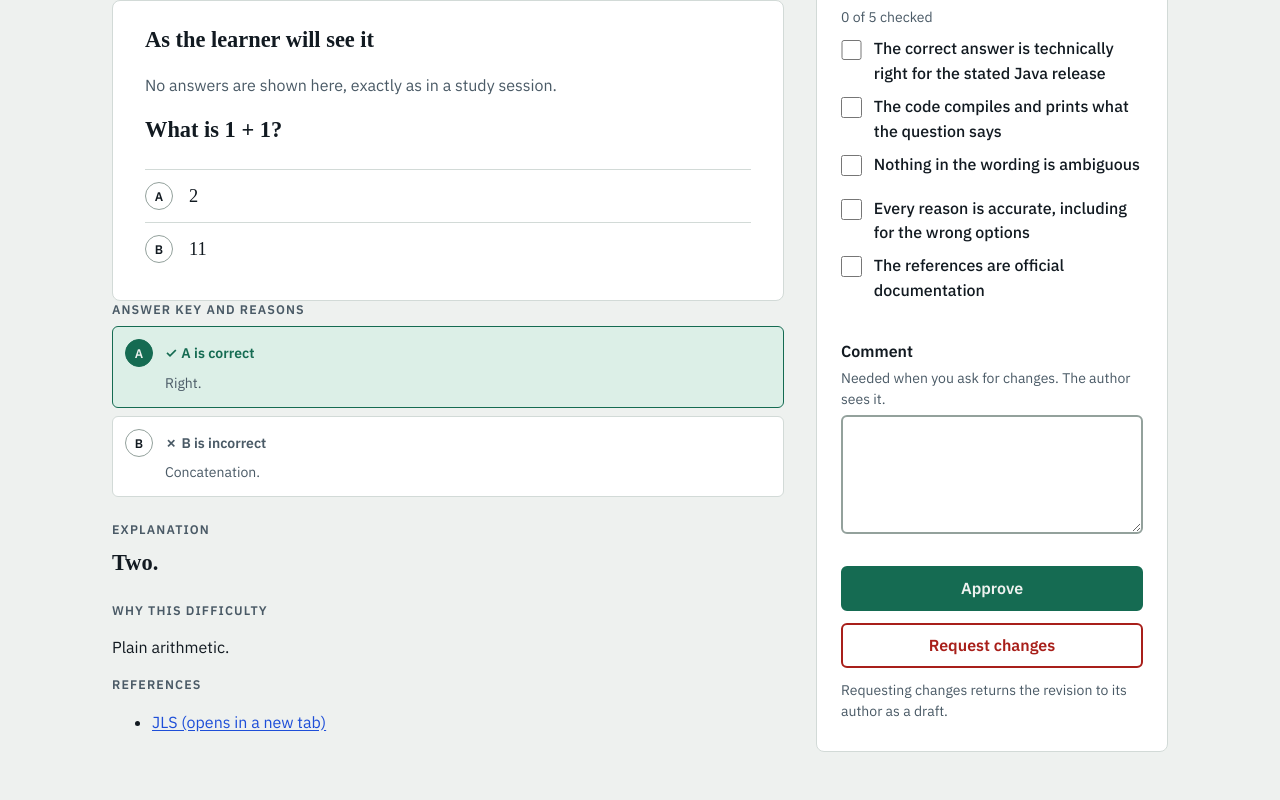
Test case: reviewing › approves without a comment
The width and height of the screenshot is (1280, 800).
(page scrolled)
Click the button "Approve" at (992,588), box [841,566,1143,611]
(page scrolled)
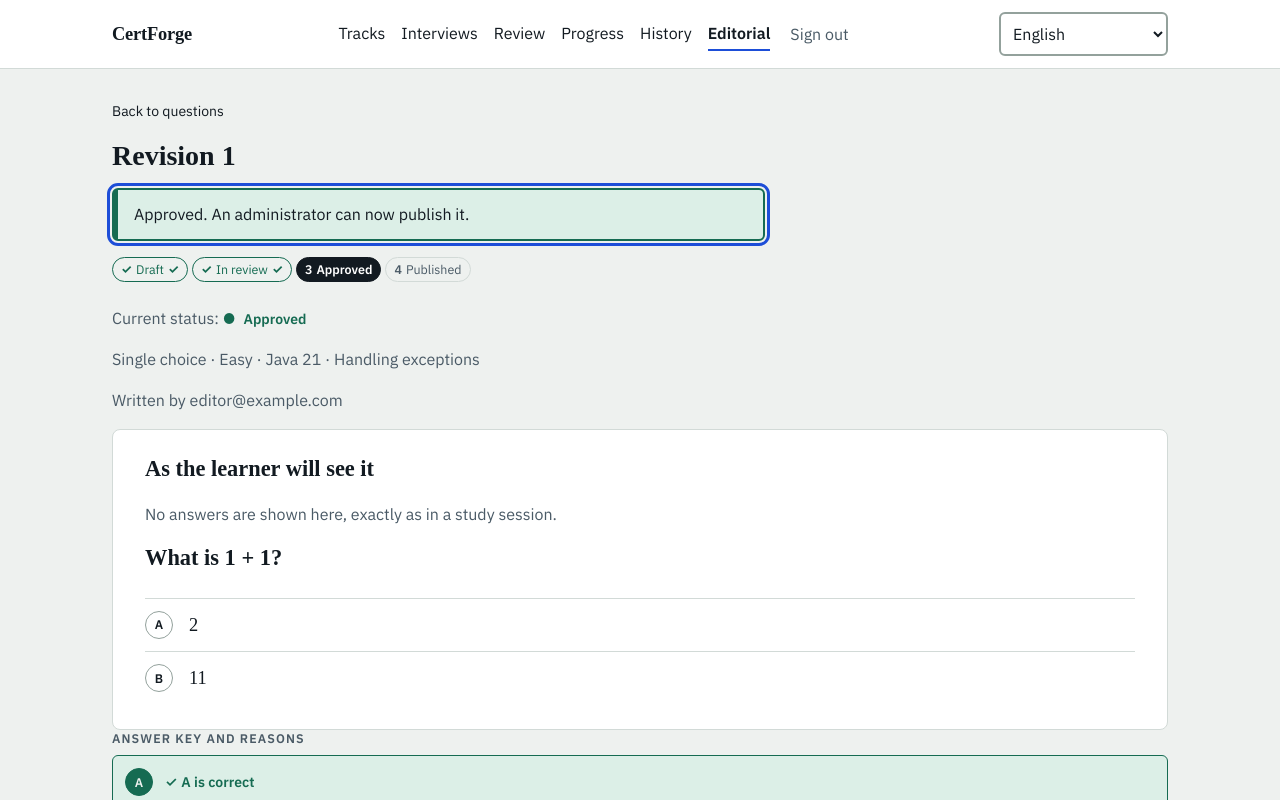
Now the text "Approved. An administrator can now publish it." is shown, box [112,188,765,241]
